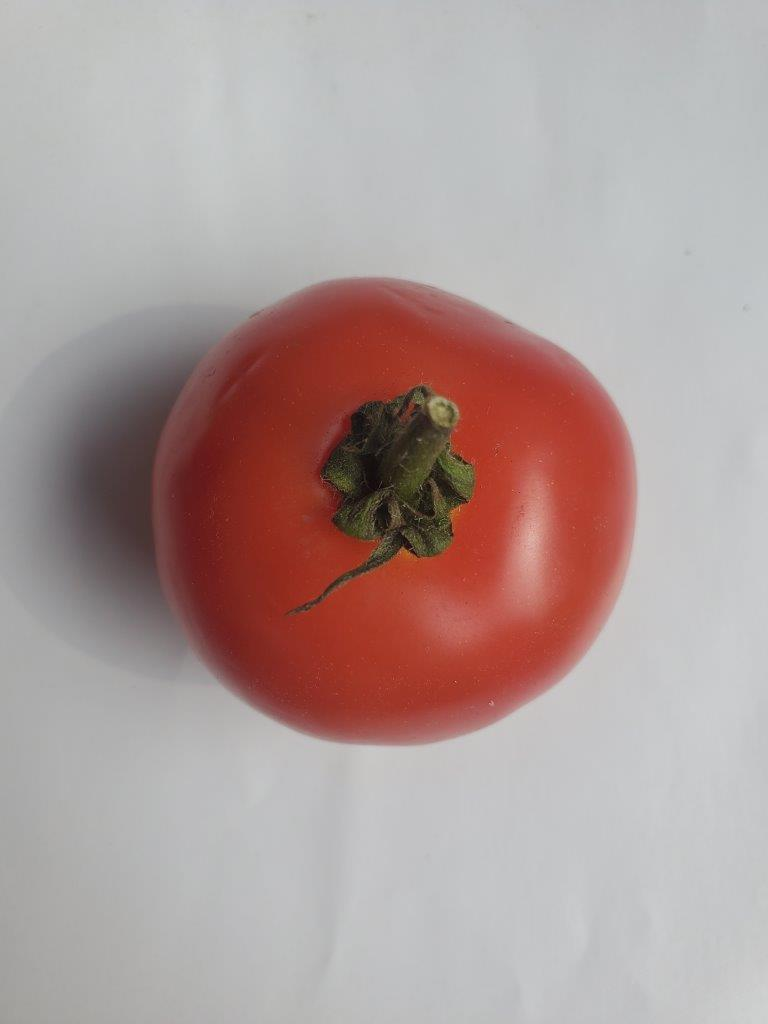tomato: (153, 278, 635, 742)
